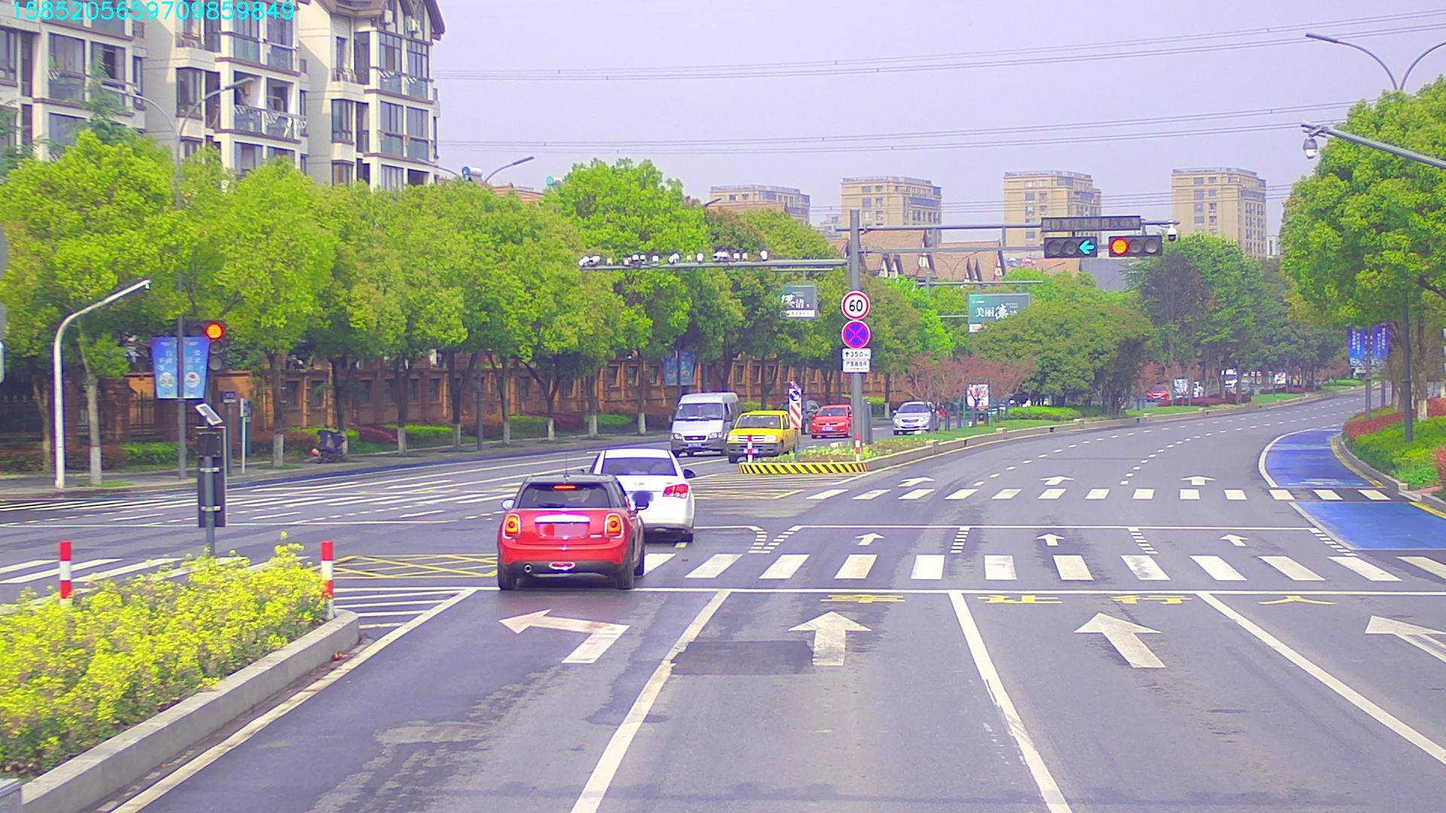green: (1042, 237, 1097, 257)
red: (1108, 235, 1161, 253)
